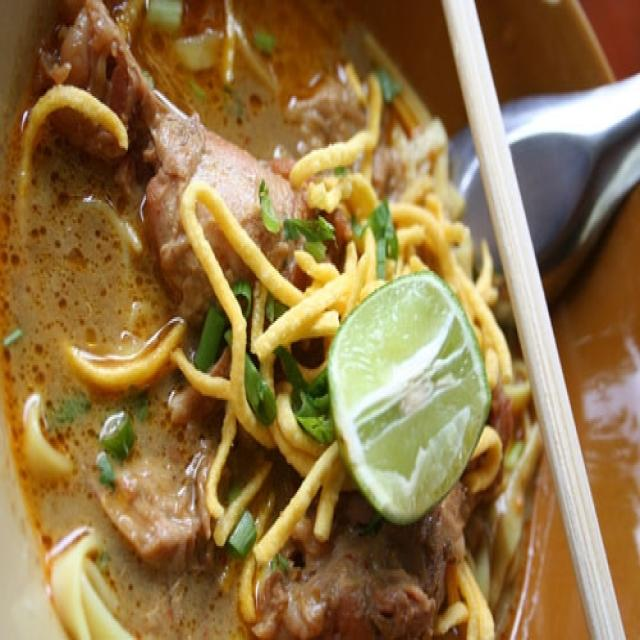面条主食: (8, 9, 599, 620)
